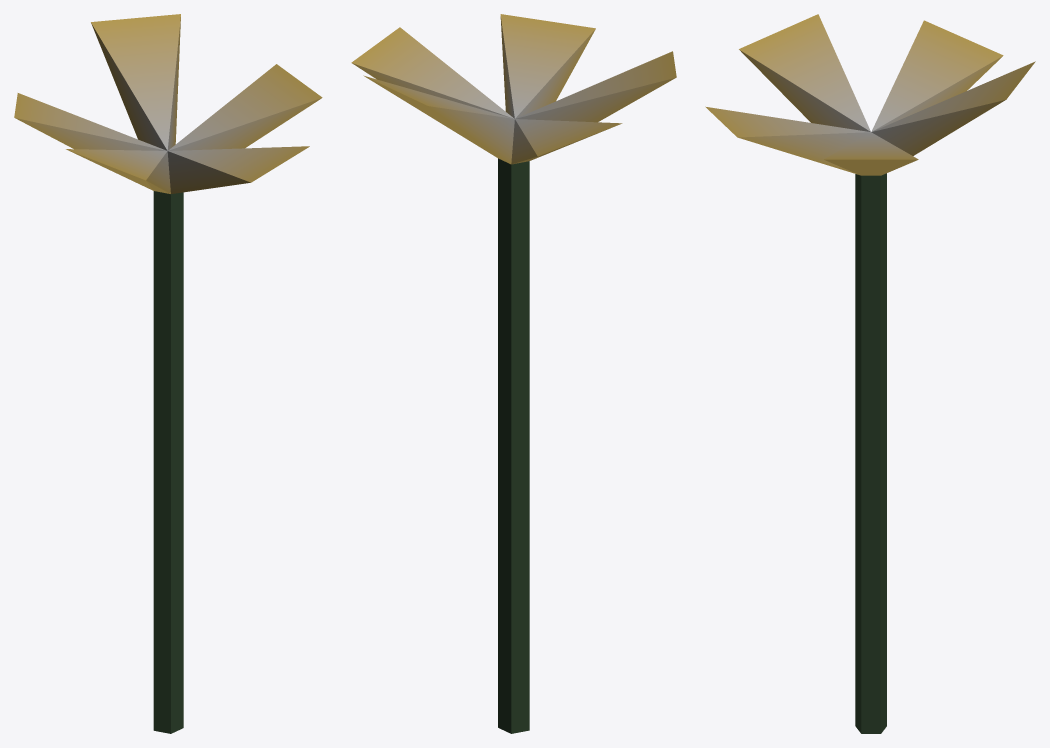
The model's file is Prop_FlowerA.fbx.
3 renders of one model, left to right at view 1: azimuth 30°, elevation 25°; view 2: azimuth 150°, elevation 25°; view 3: azimuth 270°, elevation 25°, orthographic. The views are drawn at different scales.
Visible parts, largest first — view 1: Prop_FlowerA; view 2: Prop_FlowerA; view 3: Prop_FlowerA.
Part boxes in pixels (x1,y1,x2,y2): Prop_FlowerA: (14, 14, 322, 733); Prop_FlowerA: (351, 14, 676, 733); Prop_FlowerA: (705, 14, 1035, 733).
Size of the model in its own units: 9.26 by 21.99 by 9.87.
